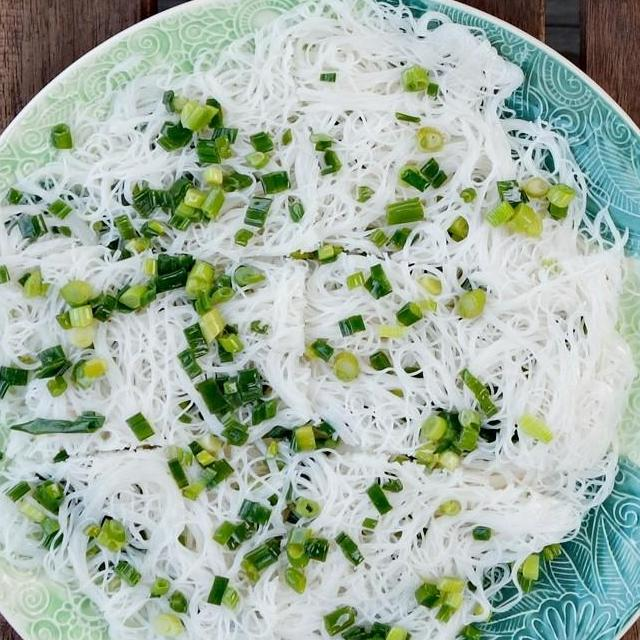banh hoi: (0, 0, 594, 276), (0, 437, 625, 640), (289, 212, 640, 521), (0, 229, 325, 467)
